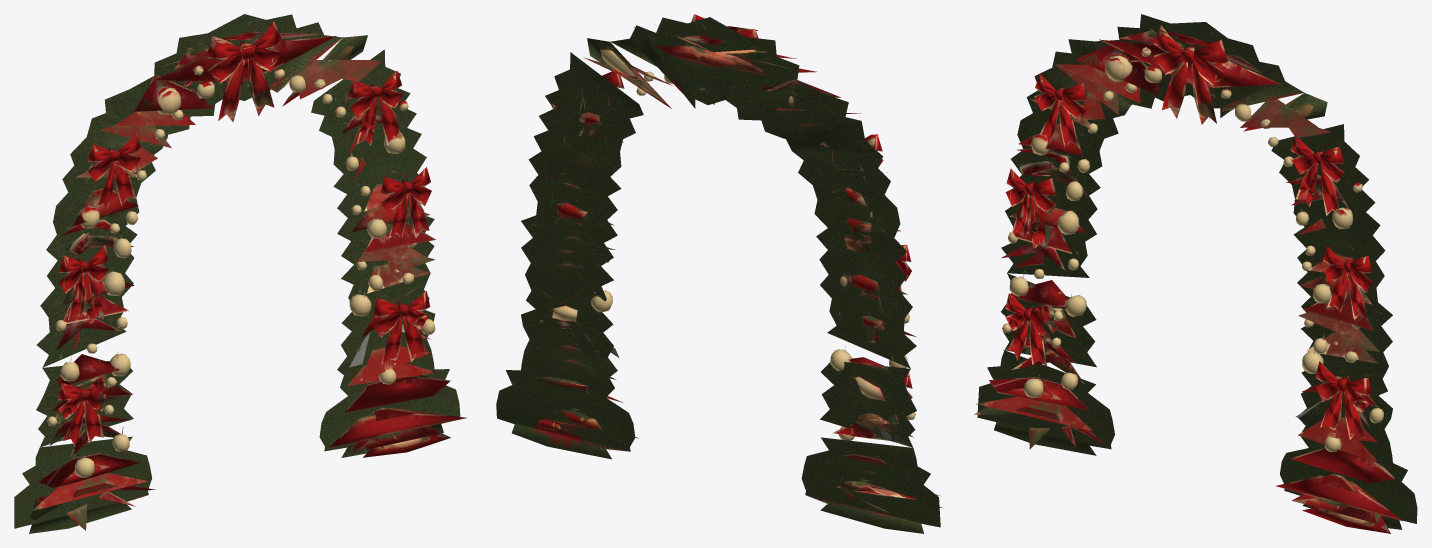
The model's file is AW-XMAS-WREATH-001-v0.2.glb.
3 views of the same model, side by side, from view 1: azimuth 30°, elevation 25°; view 2: azimuth 150°, elevation 25°; view 3: azimuth 330°, elevation 25° (orthographic).
Parts seen in each view (by area): view 1: AW-XMAS-WREATH-001_meter_ground_pivot; view 2: AW-XMAS-WREATH-001_meter_ground_pivot; view 3: AW-XMAS-WREATH-001_meter_ground_pivot.
Part boxes in pixels (left/top/right/bottom): AW-XMAS-WREATH-001_meter_ground_pivot: left=14, top=14, right=466, bottom=533; AW-XMAS-WREATH-001_meter_ground_pivot: left=496, top=14, right=943, bottom=533; AW-XMAS-WREATH-001_meter_ground_pivot: left=974, top=14, right=1417, bottom=533.
Bounding box in the file's own units: 2.97 × 3 × 0.2391.
Materials: 1 (1 with a texture image).
